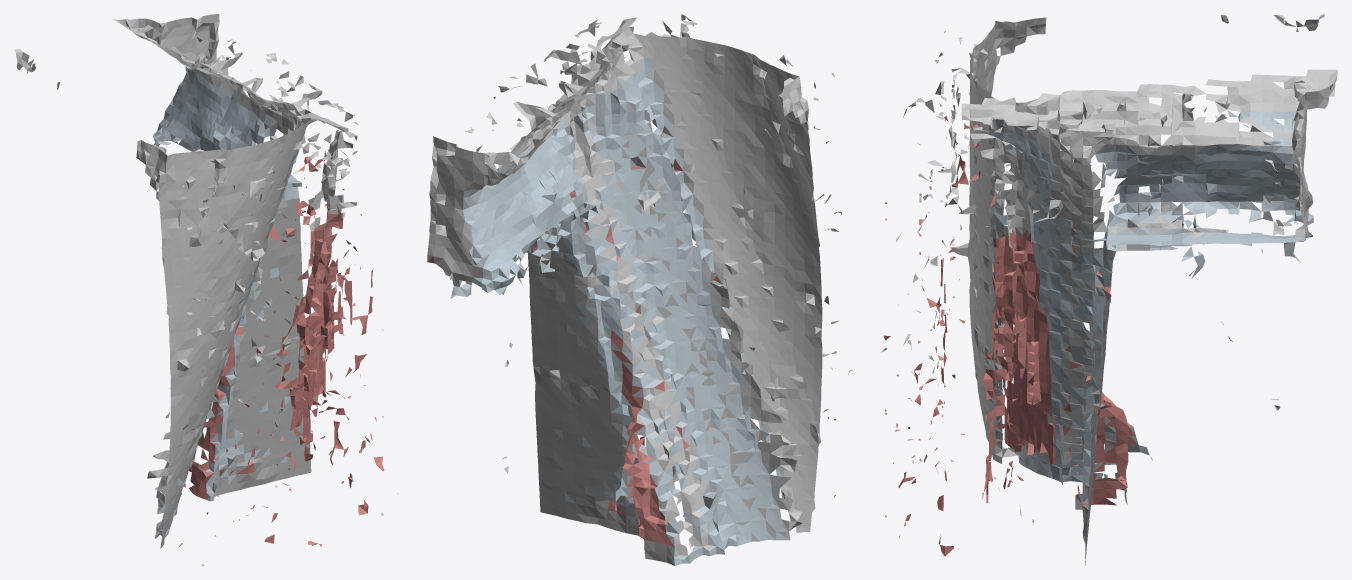
The model's file is R1-뜬면-2__lt_dynnow_ALS_s0__before.glb.
3 views of the same model, side by side, from view 1: azimuth 30°, elevation 25°; view 2: azimuth 150°, elevation 25°; view 3: azimuth 270°, elevation 25° (orthographic). The views are drawn at different scales.
Bounding box in the file's own units: 18.19 × 35.35 × 32.56.
